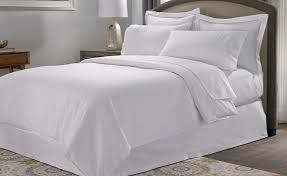bed-matress: (1, 56, 267, 139)
